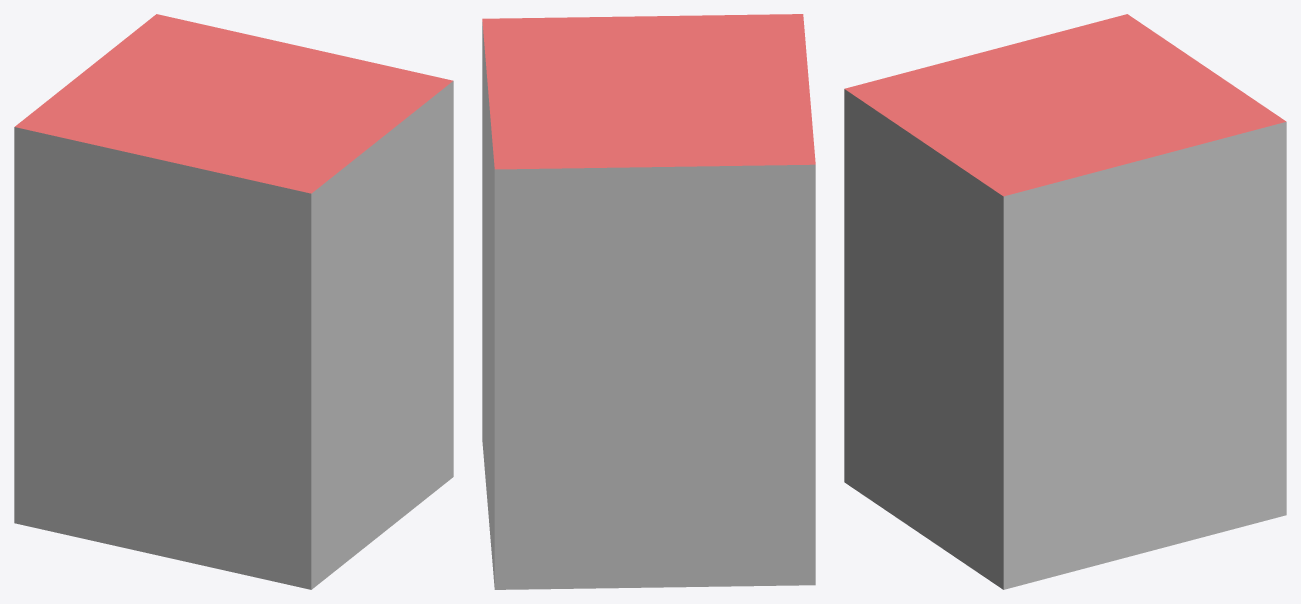
The picture shows the model from 3 angles, left to right: view 1: azimuth 30°, elevation 25°; view 2: azimuth 150°, elevation 25°; view 3: azimuth 270°, elevation 25°; orthographic projection. The views are drawn at different scales.
Parts seen in each view (by area): view 1: Z_UP; view 2: Z_UP; view 3: Z_UP.
Part boxes in pixels (left/top/right/bottom): Z_UP: left=14, top=14, right=453, bottom=589; Z_UP: left=482, top=14, right=815, bottom=589; Z_UP: left=844, top=14, right=1286, bottom=589.
Bounding box in the file's own units: 12.93 × 13 × 13.25.
